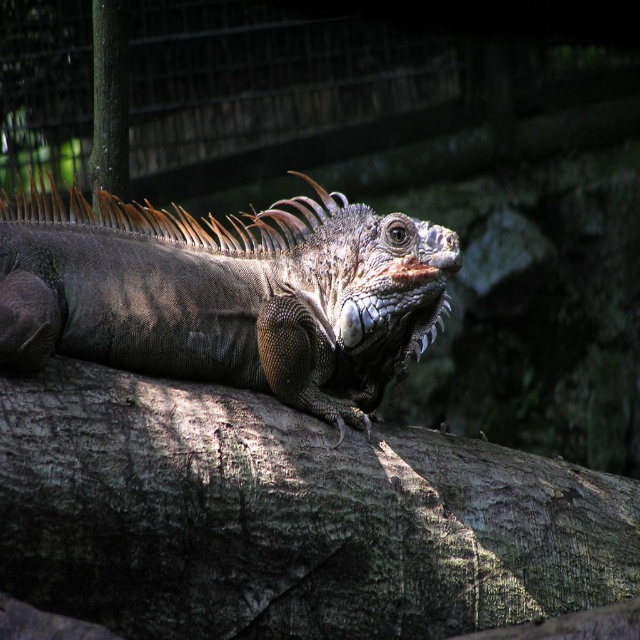Lizard: (0, 167, 462, 450)
